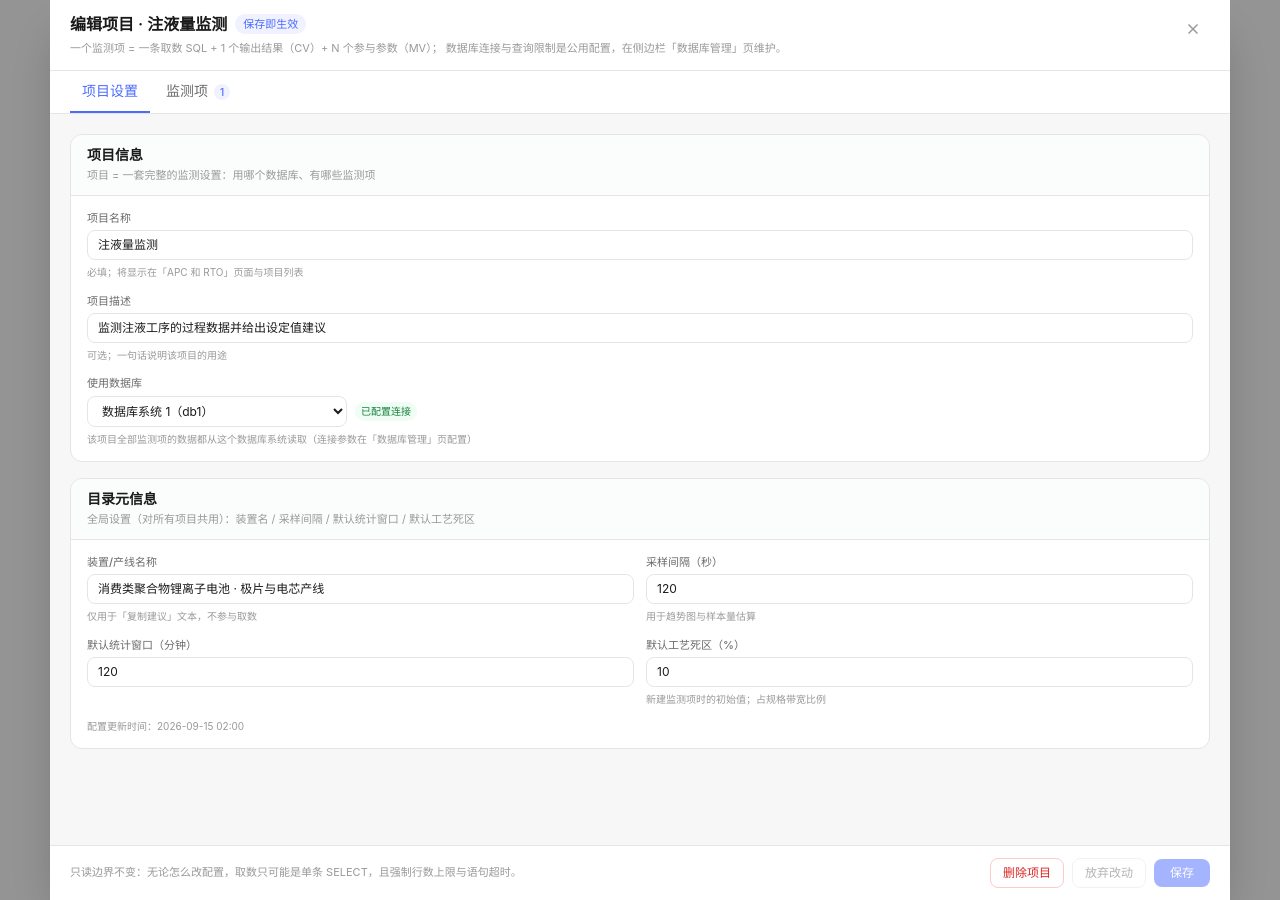
Scenario: ApcConfigPanel · 监测项 › 规格被清空时本地校验直接拦住并说明原因，不会把「空规格」提交上去
This screenshot has width=1280, height=900.
Expected: the field showing "注液量监测" is shown, [87,230,1193,260]
Click the button "监测项1".
click(198, 92)  # box [154,71,242,114]
(page scrolled)
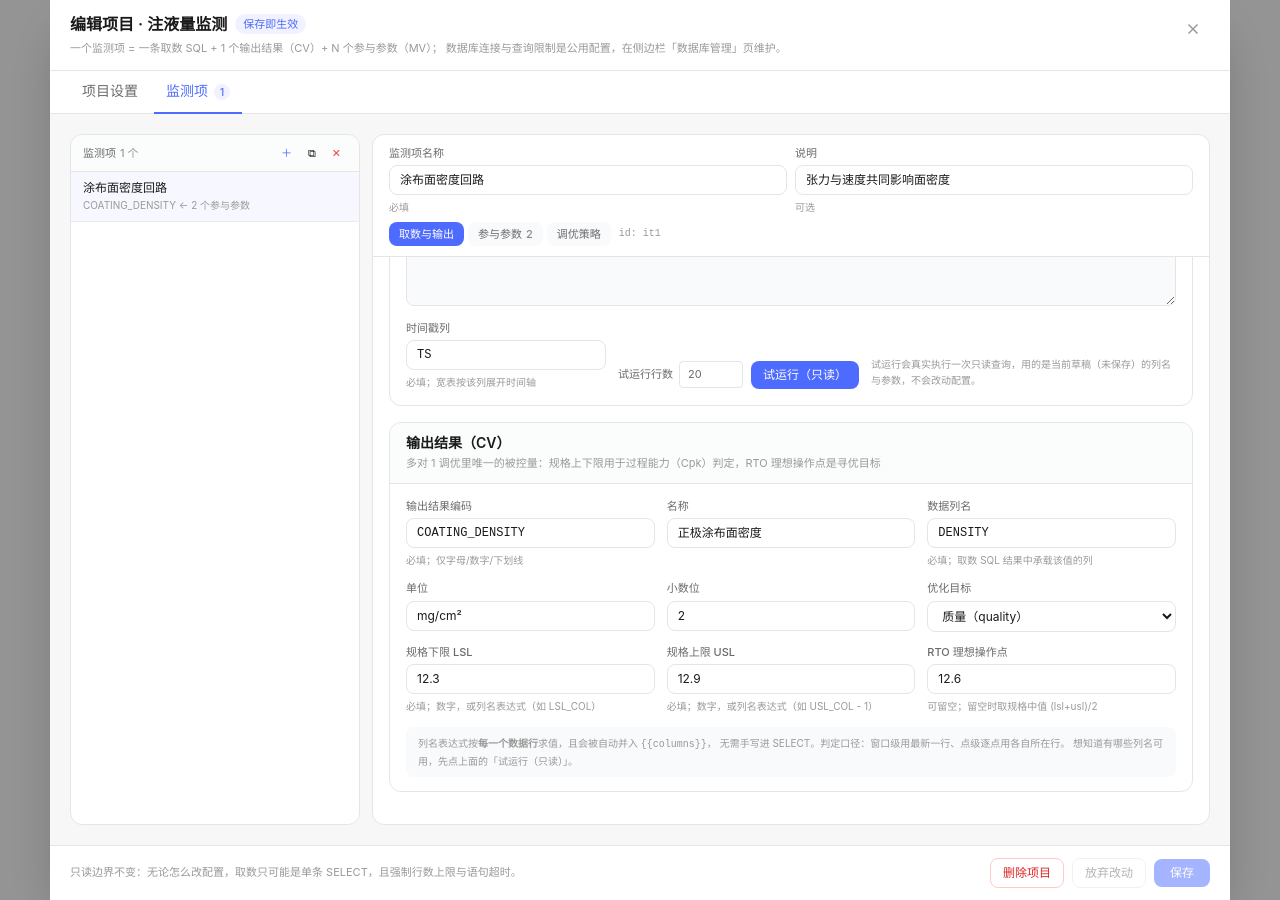
Clear the field showing "12.9" at (791, 679), box [667,664,915,694]
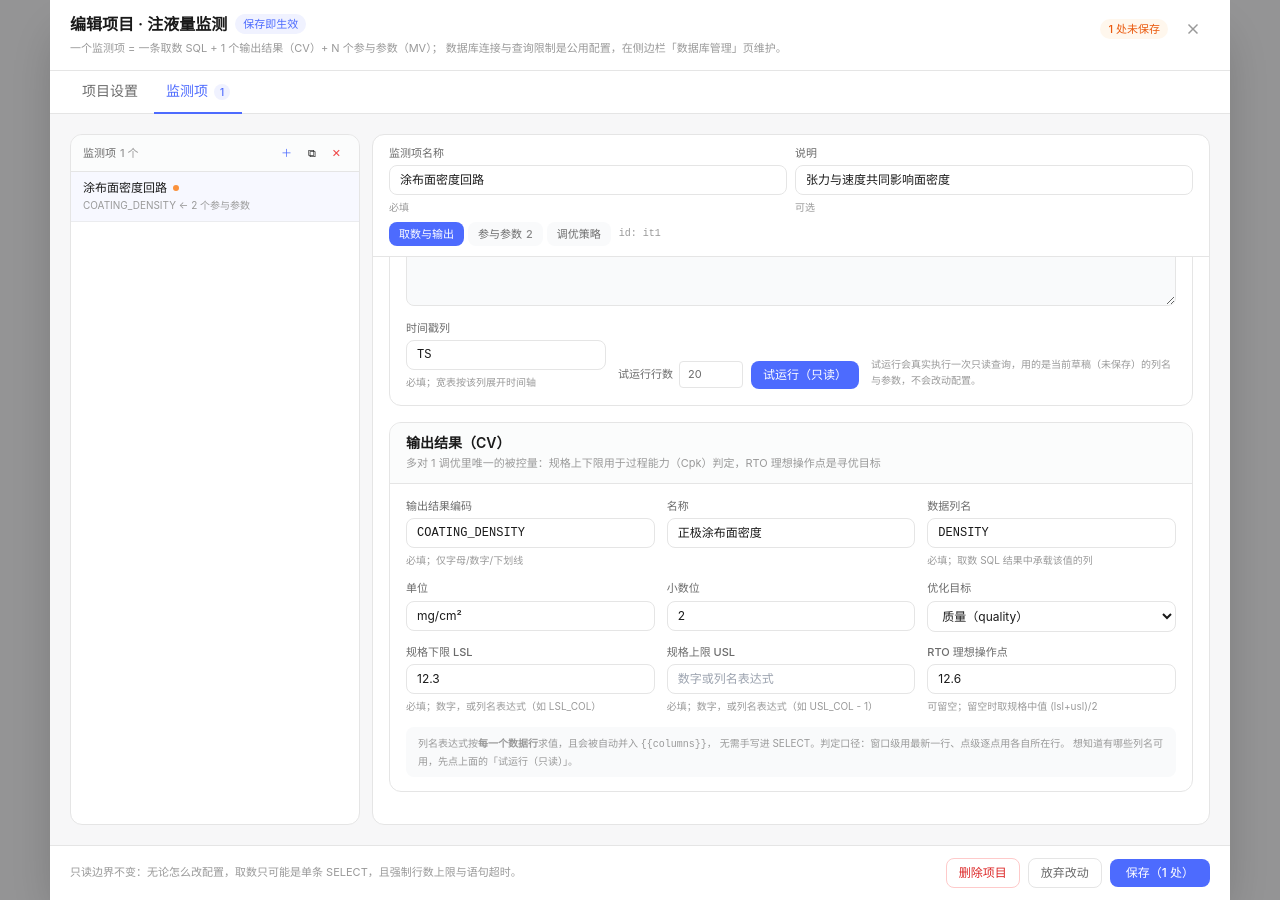
Click the button "保存（1 处）".
click(1160, 873)  # box [1110,859,1210,887]
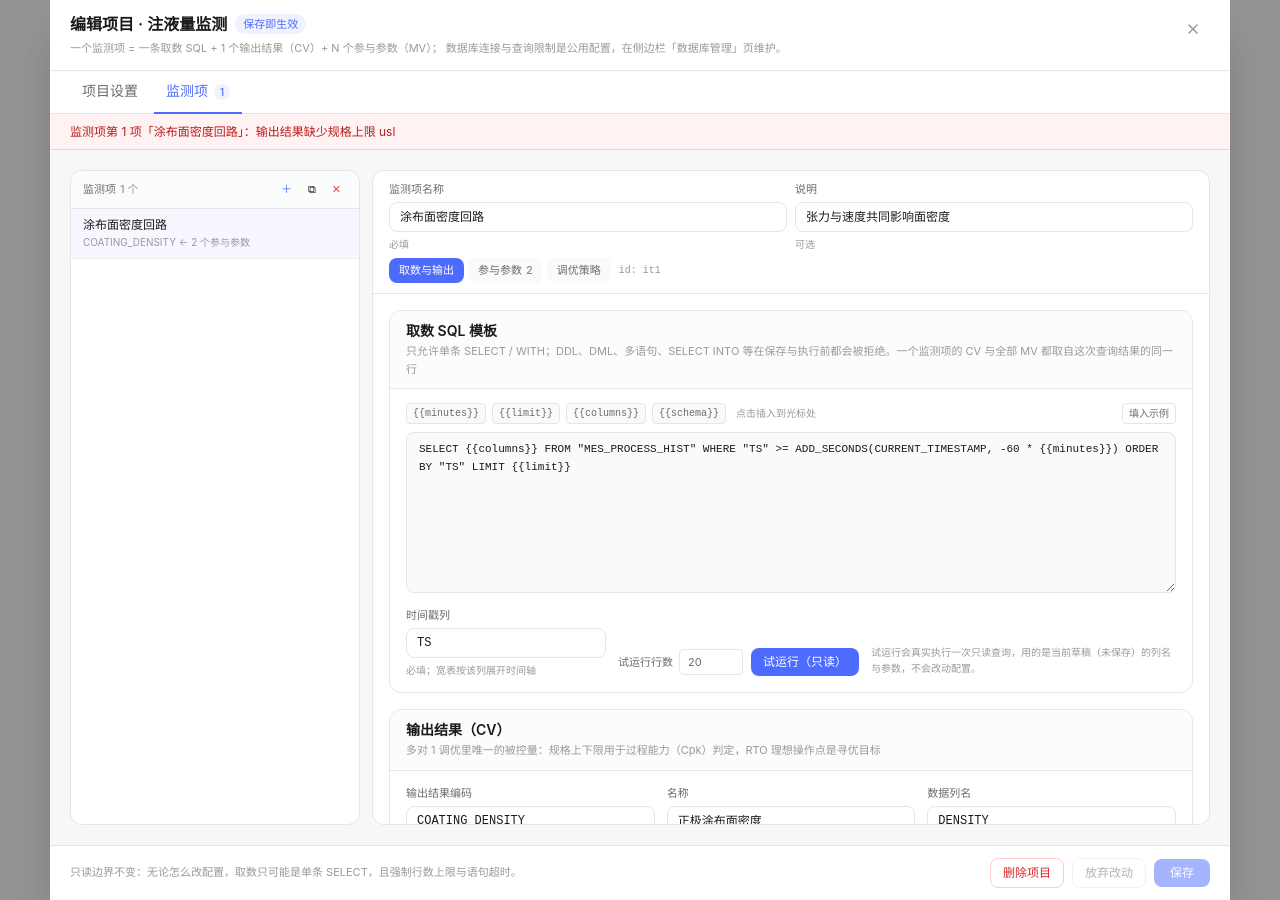
Expected: the text "监测项第 1 项「涂布面密度回路」：输出结果缺少规格上限 usl" is shown, [50,114,1230,150]
